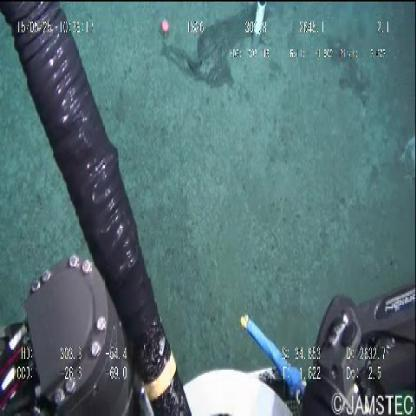Rác: (400, 131, 416, 194)
